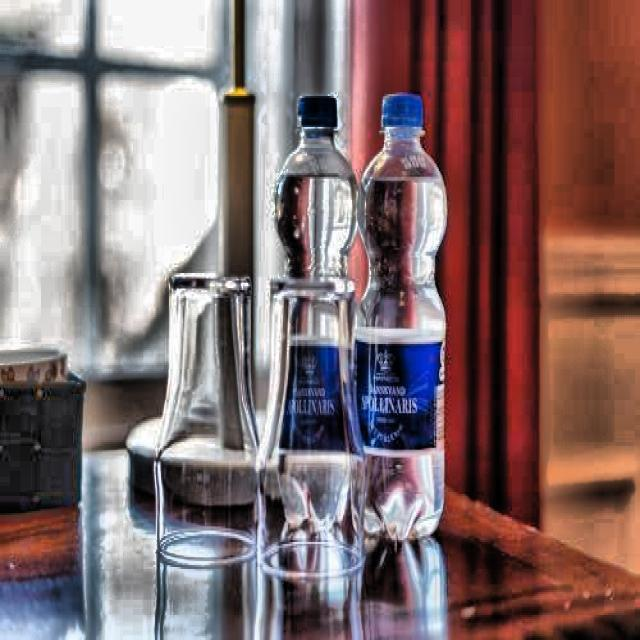Bottles: (352, 81, 455, 560), (265, 85, 355, 536)
